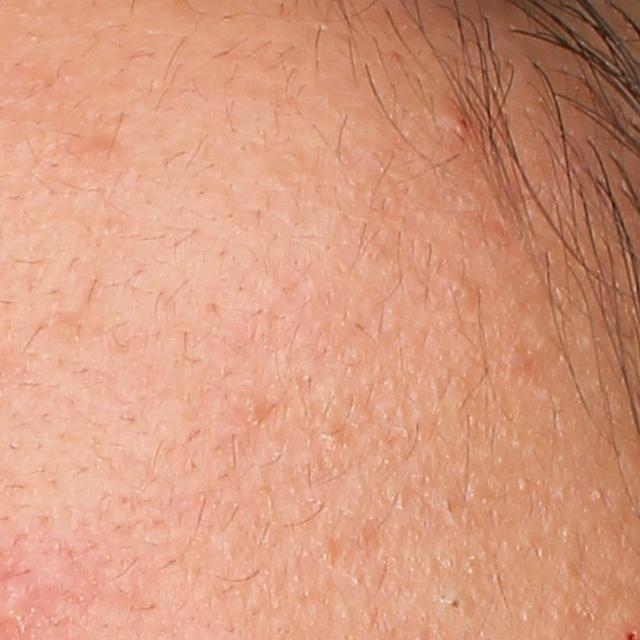comedo: (445, 275, 482, 306), (443, 579, 469, 616)
papule: (444, 106, 478, 138)
